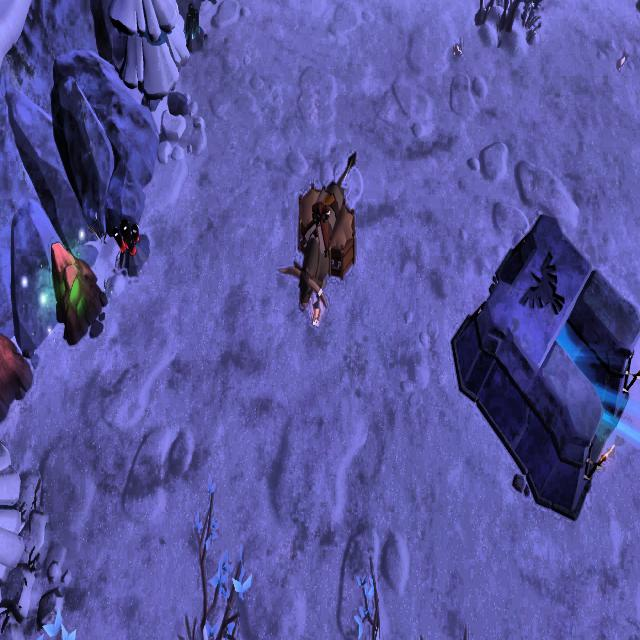ore_t4: (181, 6, 202, 47)
ore_t5: (110, 215, 140, 257)
rock_t5: (49, 243, 106, 344), (0, 328, 40, 428)
